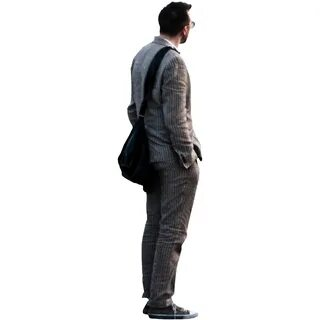awake: (127, 1, 203, 319)
